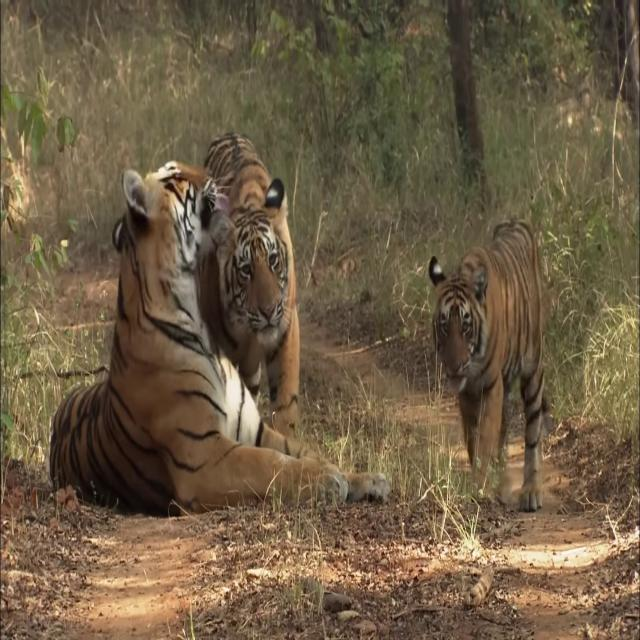tiger: (47, 161, 390, 506), (429, 218, 552, 514), (206, 134, 301, 436)
